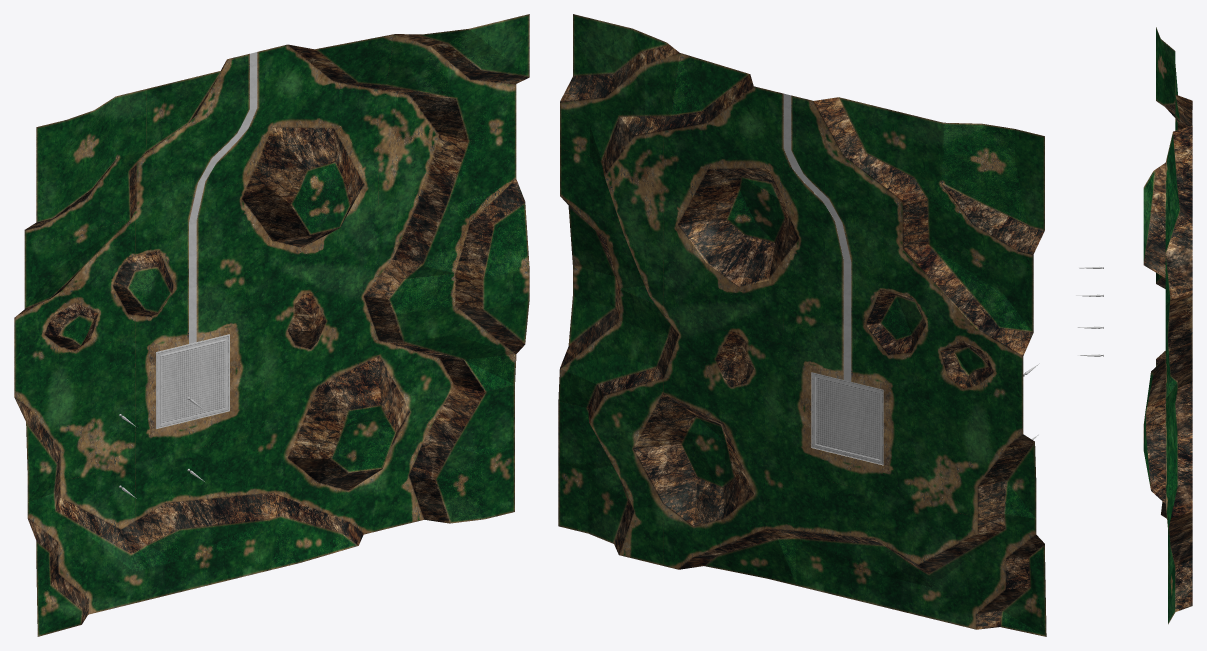
The model's file is cell_games.FBX.
The picture shows the model from 3 angles, left to right: view 1: azimuth 30°, elevation 25°; view 2: azimuth 150°, elevation 25°; view 3: azimuth 270°, elevation 25°; orthographic projection. The views are drawn at different scales.
Parts seen in each view (by area): view 1: BSP_Object_model_0; view 2: BSP_Object_model_0; view 3: BSP_Object_model_0.
Part boxes in pixels (box(x1,y1,x2,y2)): BSP_Object_model_0: box(14, 14, 529, 636); BSP_Object_model_0: box(558, 14, 1046, 636); BSP_Object_model_0: box(1143, 27, 1192, 624).
Bounding box in the file's own units: 6144 × 6144 × 1535.
